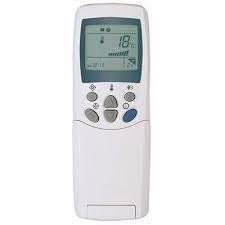remote control: (71, 2, 153, 223)
